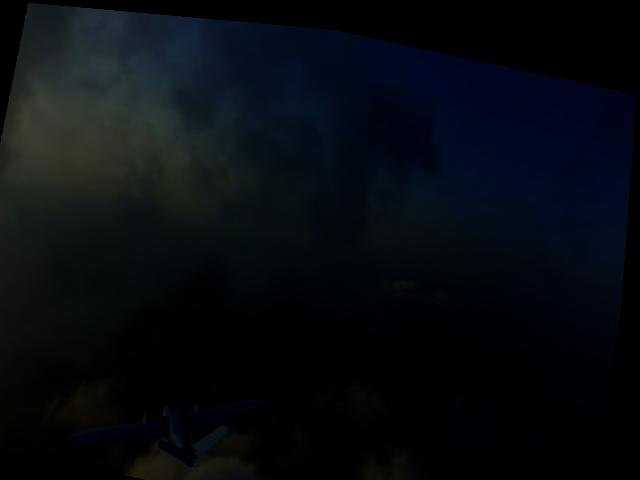uav: (68, 351, 276, 480)
